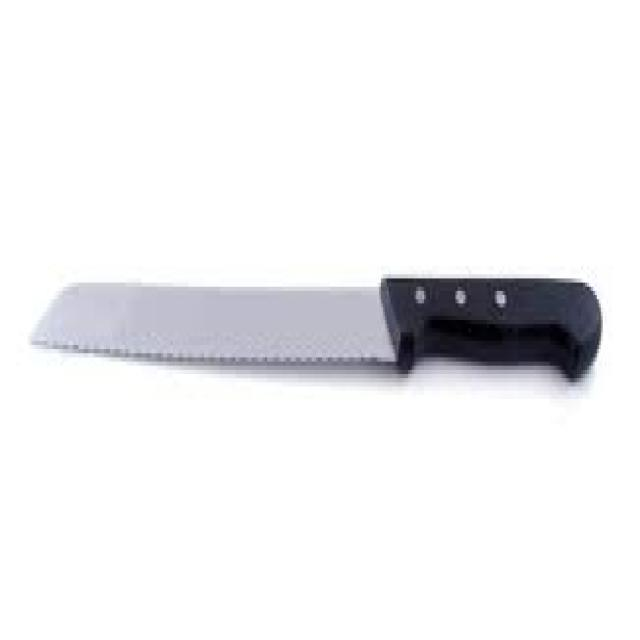Knife: (29, 270, 601, 378)
